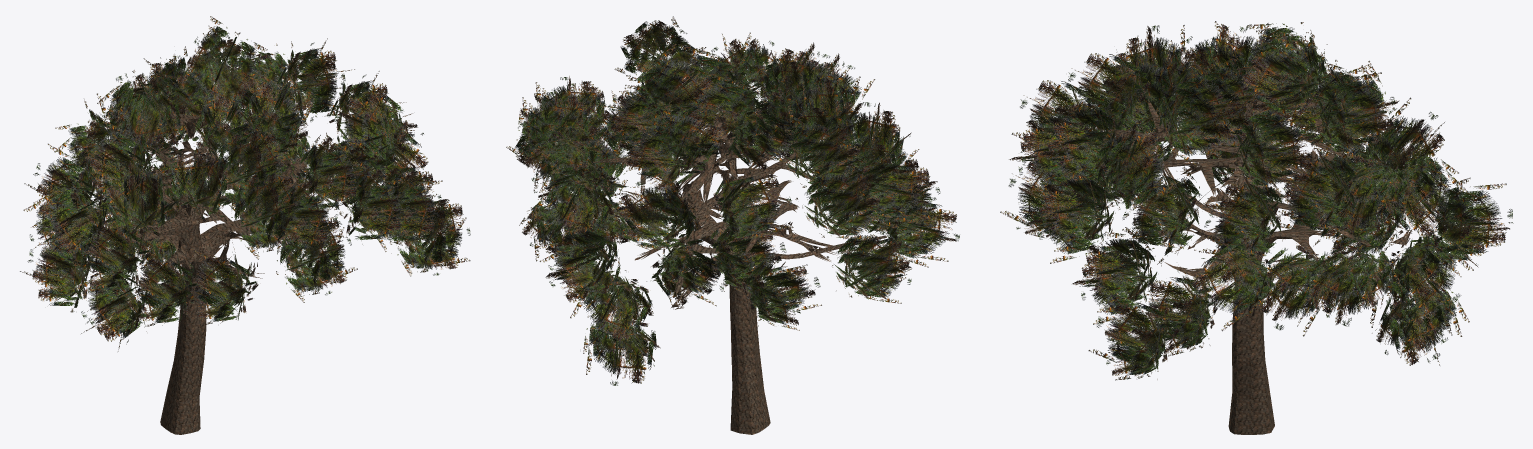
The model's file is pine-umbrella.glb.
3 renders of one model, left to right at view 1: azimuth 30°, elevation 25°; view 2: azimuth 150°, elevation 25°; view 3: azimuth 270°, elevation 25°, orthographic. The views are drawn at different scales.
Visible parts, largest first — view 1: pine-umbrella; view 2: pine-umbrella; view 3: pine-umbrella.
Boxes of the visible parts, left/top/right/bottom form: pine-umbrella: left=20, top=16, right=470, bottom=434; pine-umbrella: left=506, top=16, right=959, bottom=434; pine-umbrella: left=1000, top=21, right=1513, bottom=434.
Size of the model in its own units: 18.03 by 16 by 17.6.
2 materials, 2 textured.
